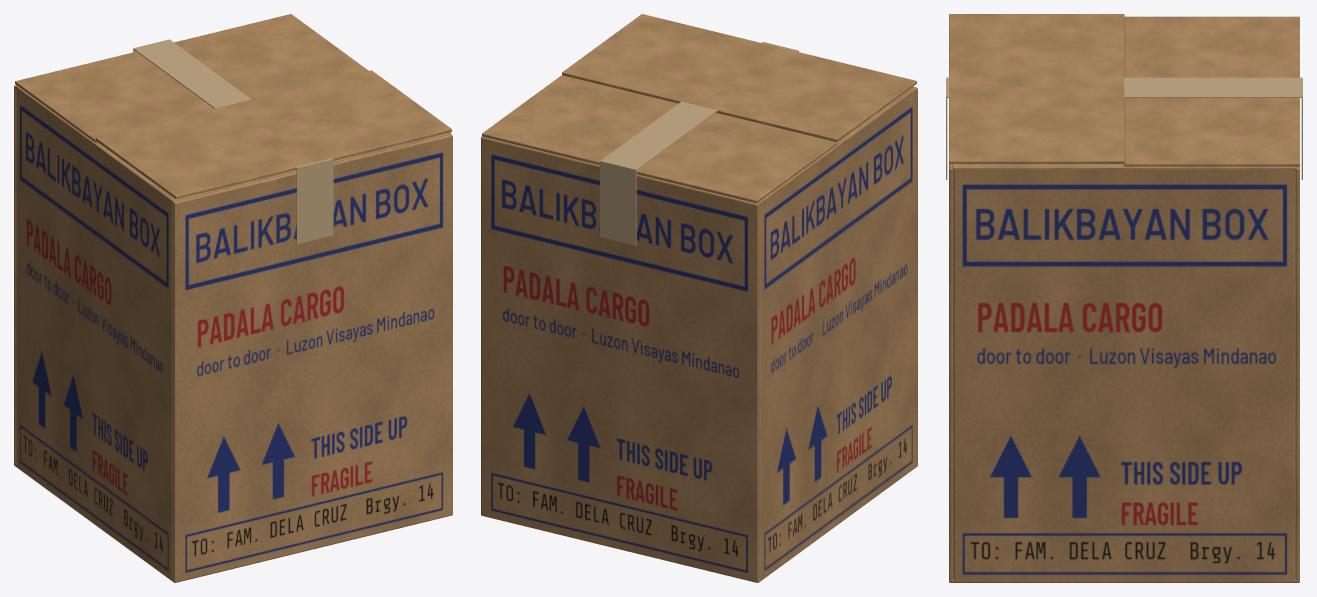
Rendered from lootbox_balikbayan.glb.
3 renders of one model, left to right at view 1: azimuth 30°, elevation 25°; view 2: azimuth 150°, elevation 25°; view 3: azimuth 270°, elevation 25°, orthographic. The views are drawn at different scales.
Visible parts, largest first — view 1: box_back, box_left, flap_y1, flap_y0, tape, tape3, flap_x1, box_front, box_floor; view 2: box_front, box_left, flap_y1, flap_y0, tape, tape2, flap_x1, box_back, box_floor; view 3: box_right, flap_y1, flap_y0, tape, box_back, box_front, flap_x0, box_floor.
Part boxes in pixels (box(x1,y1,x2,y2)): box_back: box(173, 134, 452, 582); box_left: box(16, 89, 172, 578); flap_y1: box(95, 70, 451, 198); flap_y0: box(15, 14, 368, 142); tape: box(134, 40, 332, 168); tape3: box(296, 159, 333, 243); flap_x1: box(15, 85, 296, 203); box_front: box(14, 85, 16, 465); box_floor: box(14, 464, 440, 582); box_front: box(481, 136, 759, 582); box_left: box(759, 91, 915, 578); flap_y1: box(562, 14, 916, 141); flap_y0: box(482, 75, 836, 203); tape: box(601, 42, 798, 170); tape2: box(600, 160, 636, 245); flap_x1: box(758, 87, 916, 205); box_back: box(912, 86, 917, 466); box_floor: box(485, 464, 917, 582); box_right: box(953, 169, 1295, 582); flap_y1: box(949, 14, 1124, 163); flap_y0: box(1124, 16, 1299, 166); tape: box(947, 77, 1301, 97); box_back: box(949, 164, 953, 581); box_front: box(1295, 166, 1299, 581); flap_x0: box(952, 164, 1296, 170); box_floor: box(949, 579, 1299, 582).
Bounding box in the file's own units: 0.46 × 0.61 × 0.4675.
3 materials, 2 textured.
